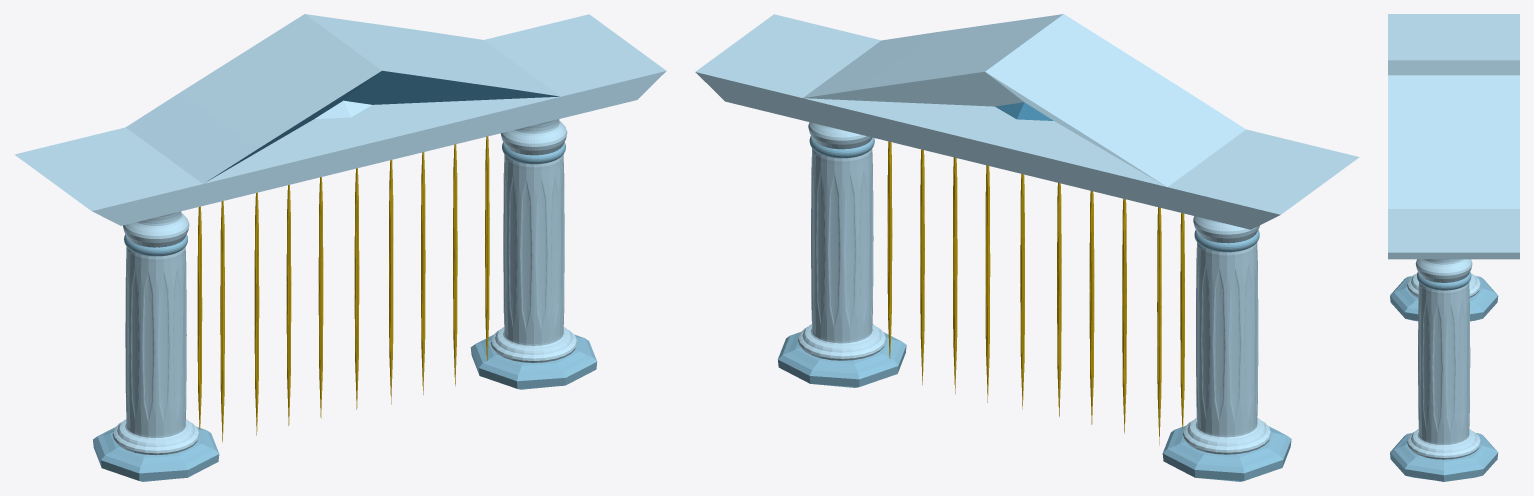
File: puertaFinal.fbx
The picture shows the model from 3 angles, left to right: view 1: azimuth 30°, elevation 25°; view 2: azimuth 150°, elevation 25°; view 3: azimuth 270°, elevation 25°; orthographic projection. The views are drawn at different scales.
Parts seen in each view (by area): view 1: Cube.013, Circle.001, Cylinder.004; view 2: Cube.013, Circle.001, Cylinder.004; view 3: Cube.013, Circle.001.
Boxes of the visible parts, x1,y1,x2,y2 form: Cube.013: (14,14,666,225); Circle.001: (93,119,597,481); Cylinder.004: (197,136,489,442); Cube.013: (695,14,1359,229); Circle.001: (777,122,1291,481); Cylinder.004: (887,141,1184,445); Cube.013: (1388,14,1519,259); Circle.001: (1390,259,1498,481).
Bounding box in the file's own units: 542 × 335 × 126.
3 materials, 3 textured.
